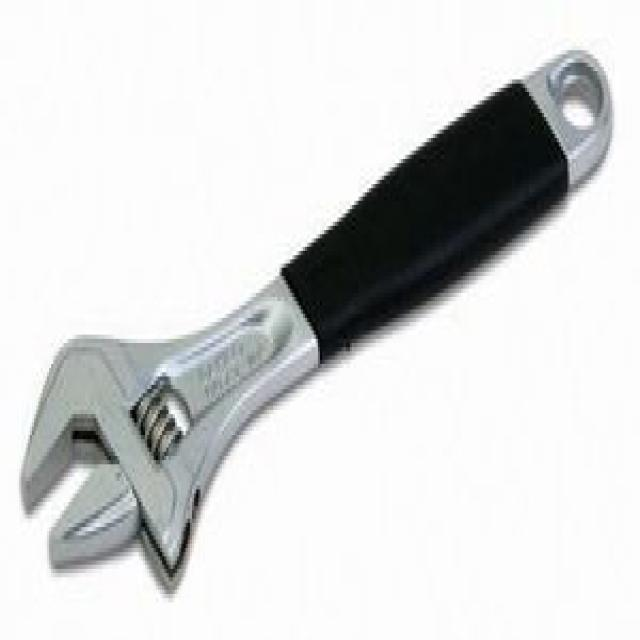wrench: (7, 16, 640, 601)
